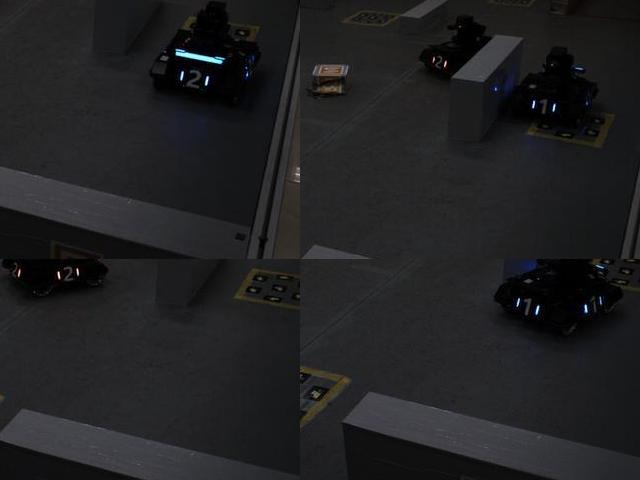armor: (175, 64, 213, 95), (507, 293, 543, 321), (525, 95, 560, 119), (51, 262, 83, 284), (579, 294, 606, 319), (428, 48, 451, 73), (8, 259, 24, 285)
